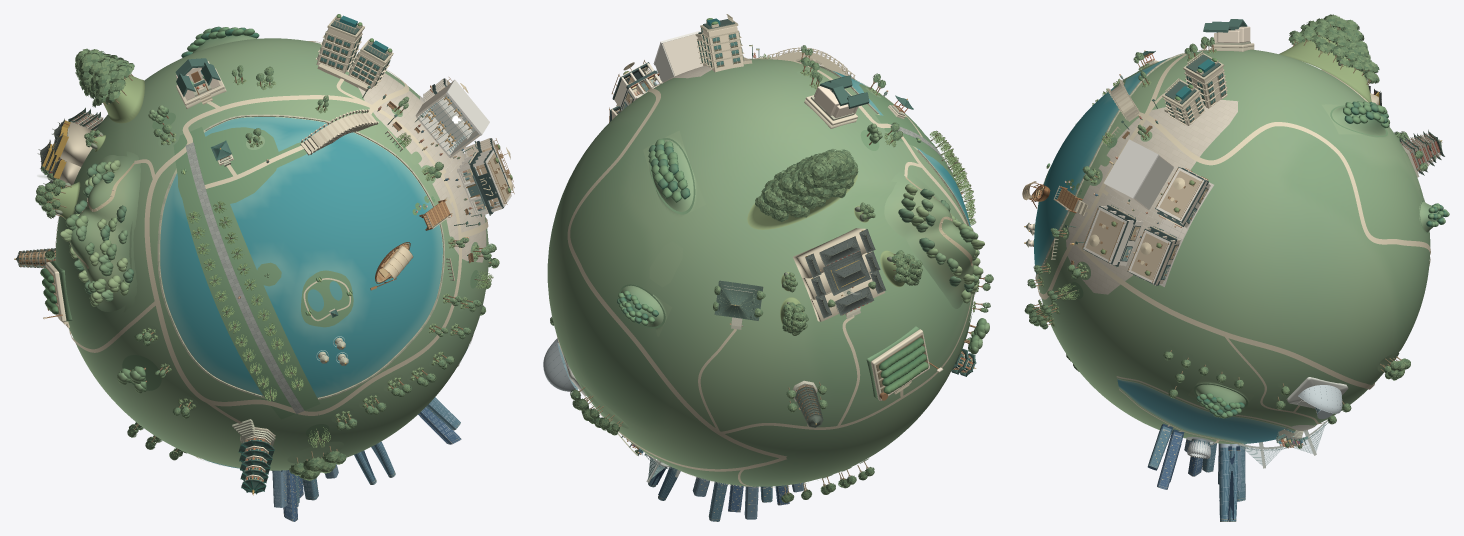
File: hangzhou.glb
3 renders of one model, left to right at view 1: azimuth 30°, elevation 25°; view 2: azimuth 150°, elevation 25°; view 3: azimuth 270°, elevation 25°, orthographic. The views are drawn at different scales.
Visible parts, largest first — view 1: landscape (×14), mountains (×2), cafe (×3), apartments (×2), pagoda, courtyard, bridge, tea, lotusPier; view 2: landscape (×12), mountains (×2), cafe, tea, apartments, courtyard, bridge; view 3: landscape (×12), cafe (×3), apartments, courtyard, bridge, lotusPier.
Part boxes in pixels (x1,y1,x2,y2): landscape (×14): (14, 26, 499, 521); mountains (×2): (60, 151, 140, 311); cafe (×3): (415, 77, 514, 217); apartments (×2): (316, 14, 393, 91); pagoda: (232, 419, 275, 494); courtyard: (175, 58, 224, 105); bridge: (300, 109, 378, 155); tea: (40, 262, 66, 322); lotusPier: (415, 197, 452, 230); landscape (×12): (543, 45, 993, 521); mountains (×2): (884, 172, 984, 308); cafe: (609, 31, 702, 122); tea: (871, 329, 943, 400); apartments: (695, 14, 752, 72); courtyard: (805, 75, 869, 125); bridge: (766, 47, 855, 79); landscape (×12): (1024, 14, 1449, 521); cafe (×3): (1082, 139, 1213, 286); apartments: (1162, 51, 1227, 125); courtyard: (1203, 19, 1254, 47); bridge: (1107, 80, 1139, 121); lotusPier: (1053, 181, 1087, 215).
Size of the model in its own units: 3.16 by 3.57 by 3.07.
